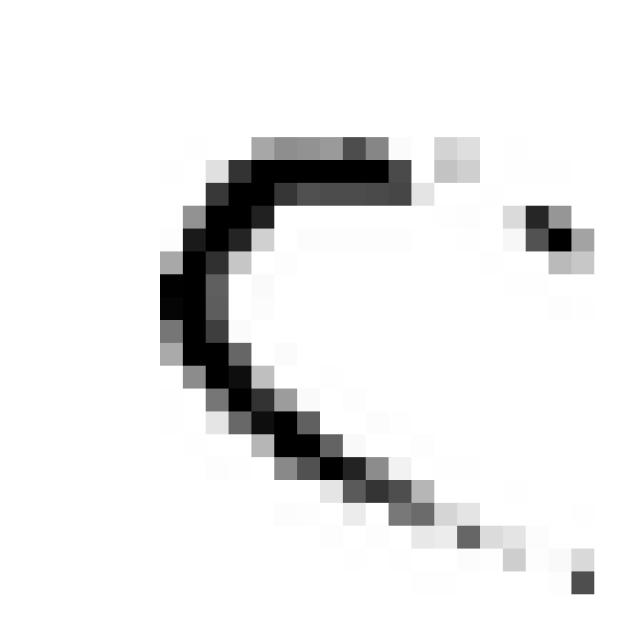2 -two-: (138, 116, 626, 620)
